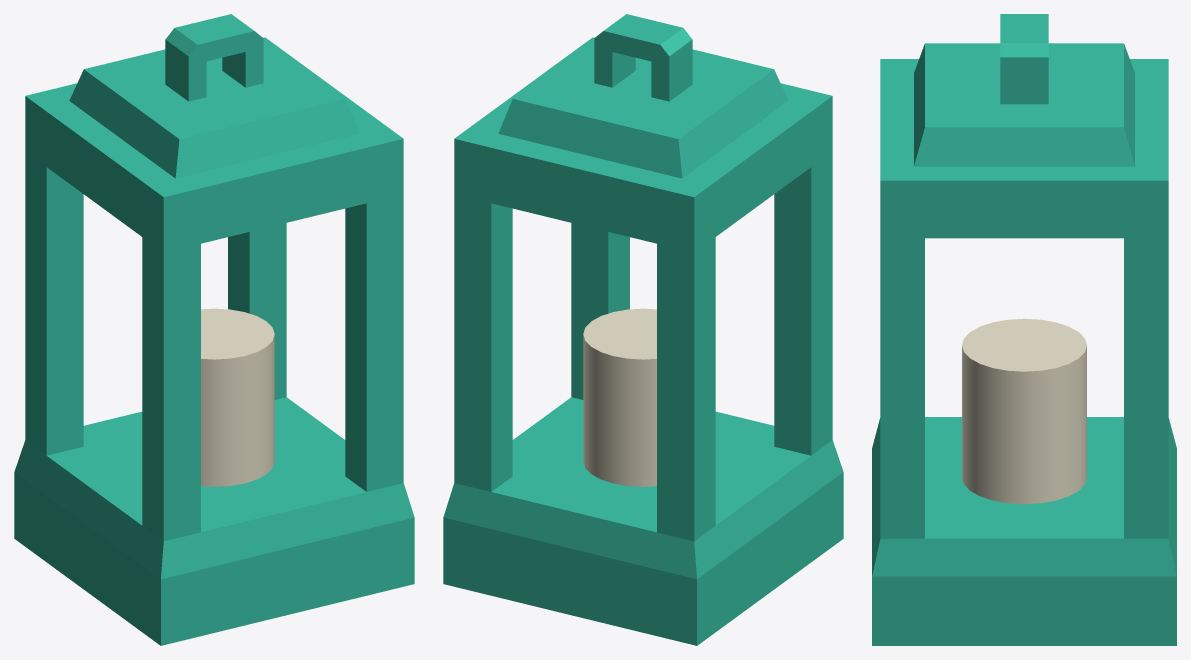
The model's file is lanternCandle.fbx.
The picture shows the model from 3 angles, left to right: view 1: azimuth 30°, elevation 25°; view 2: azimuth 150°, elevation 25°; view 3: azimuth 270°, elevation 25°; orthographic projection. The views are drawn at different scales.
Visible parts, largest first — view 1: lanternCandle; view 2: lanternCandle; view 3: lanternCandle.
Boxes of the visible parts, <box> form: lanternCandle: <box>14,14,414,645</box>; lanternCandle: <box>443,14,843,645</box>; lanternCandle: <box>872,14,1176,645</box>.
Size of the model in its own units: 1.46 by 2.92 by 1.46.
